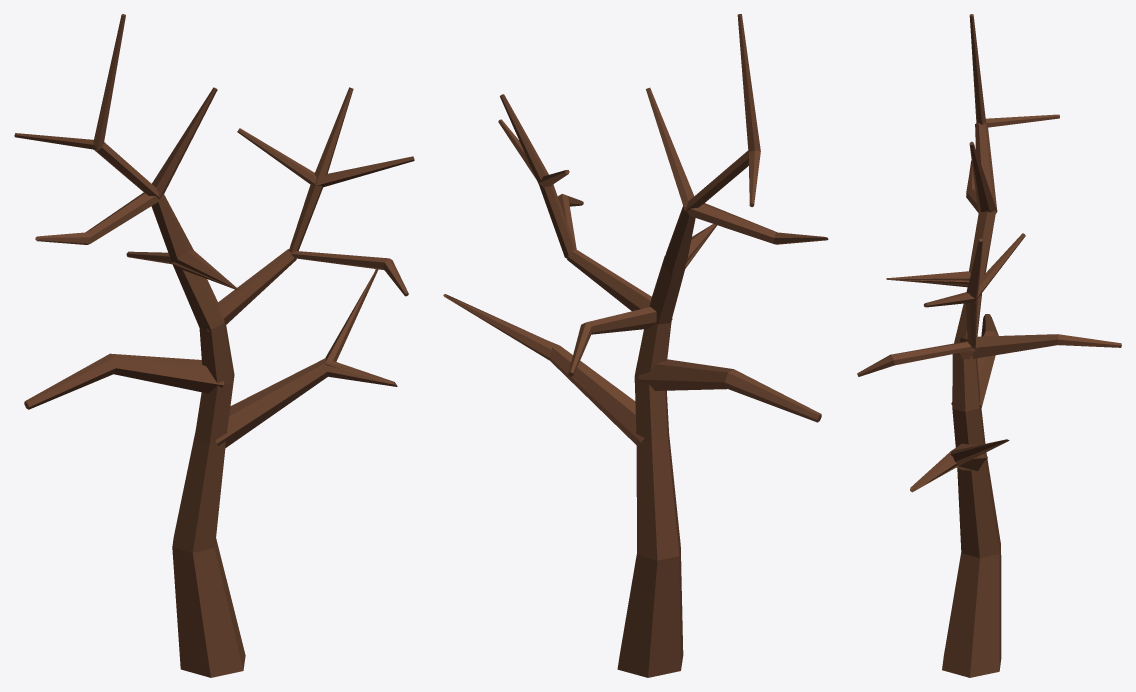
Rendered from Tree_Dead.fbx.
The picture shows the model from 3 angles, left to right: view 1: azimuth 30°, elevation 25°; view 2: azimuth 150°, elevation 25°; view 3: azimuth 270°, elevation 25°; orthographic projection. The views are drawn at different scales.
Parts seen in each view (by area): view 1: Tree_Dead; view 2: Tree_Dead; view 3: Tree_Dead.
Part boxes in pixels (box(x1,y1,x2,y2)): Tree_Dead: box(14, 14, 414, 677); Tree_Dead: box(443, 14, 828, 677); Tree_Dead: box(857, 14, 1121, 677).
Size of the model in its own units: 0.6061 by 1.06 by 0.4186.
